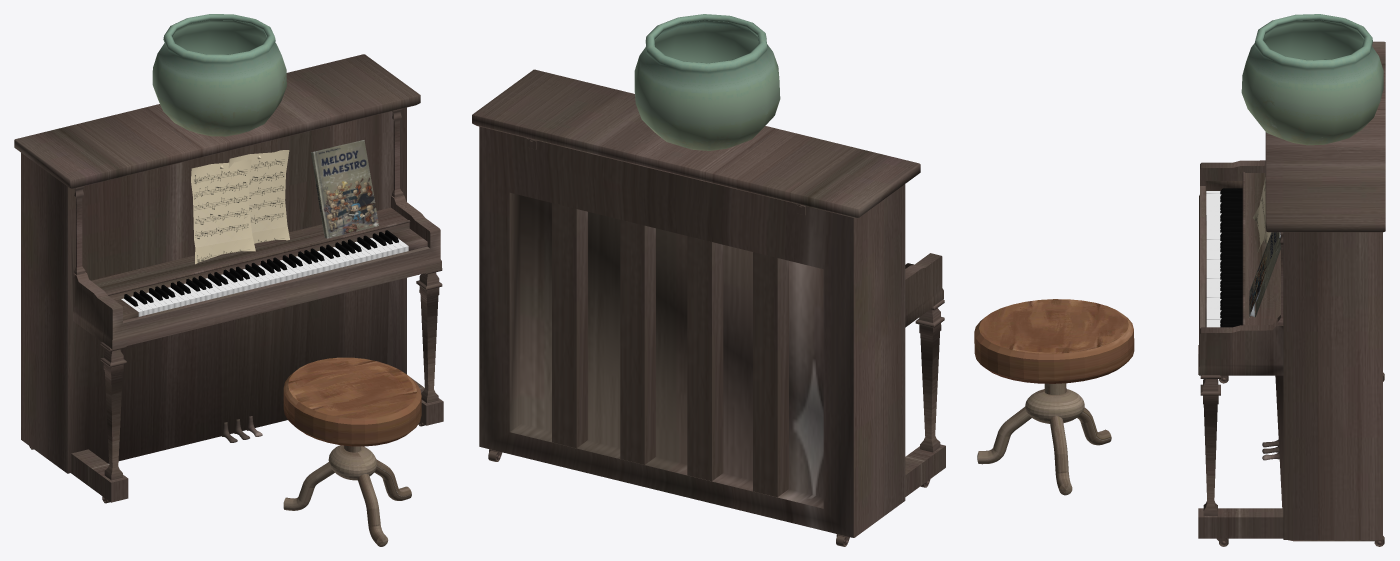
The model's file is piano.fbx.
3 views of the same model, side by side, from view 1: azimuth 30°, elevation 25°; view 2: azimuth 150°, elevation 25°; view 3: azimuth 270°, elevation 25° (orthographic). The views are drawn at different scales.
Parts seen in each view (by area): view 1: LODGroup_1_MainMesh_1_Submesh_1, Plane.002, Mesh_0.014, PosterMissing_PosterMissing, Ladybird_Book_A, PosterMissing_PosterMissing.001; view 2: LODGroup_1_MainMesh_1_Submesh_1, Mesh_0.014; view 3: LODGroup_1_MainMesh_1_Submesh_1, Plane.002, Mesh_0.014, Ladybird_Book_A.
Part boxes in pixels (<box>): LODGroup_1_MainMesh_1_Submesh_1: <box>14,54,443,503</box>; Plane.002: <box>283,357,421,546</box>; Mesh_0.014: <box>152,14,286,136</box>; PosterMissing_PosterMissing: <box>191,159,255,264</box>; Ladybird_Book_A: <box>311,140,378,238</box>; PosterMissing_PosterMissing.001: <box>228,150,289,243</box>; LODGroup_1_MainMesh_1_Submesh_1: <box>472,69,945,546</box>; Mesh_0.014: <box>634,14,780,150</box>; LODGroup_1_MainMesh_1_Submesh_1: <box>1198,41,1385,546</box>; Plane.002: <box>974,299,1134,495</box>; Mesh_0.014: <box>1241,14,1383,145</box>; Ladybird_Book_A: <box>1249,232,1280,317</box>.
Size of the model in its own units: 1.75 by 1.91 by 1.67.
Materials: 7 (7 with a texture image).
